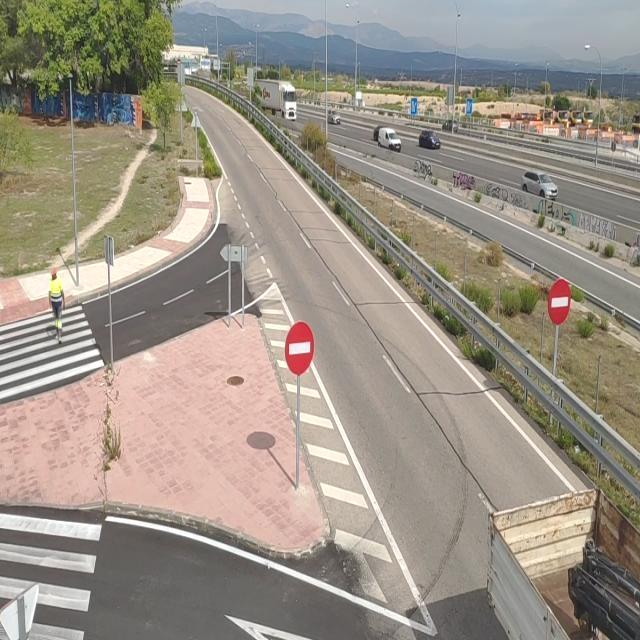Car: (520, 169, 559, 200), (419, 130, 441, 150), (442, 119, 459, 133), (328, 109, 341, 126)
Truck: (251, 78, 298, 122)
Van: (377, 127, 402, 152)
